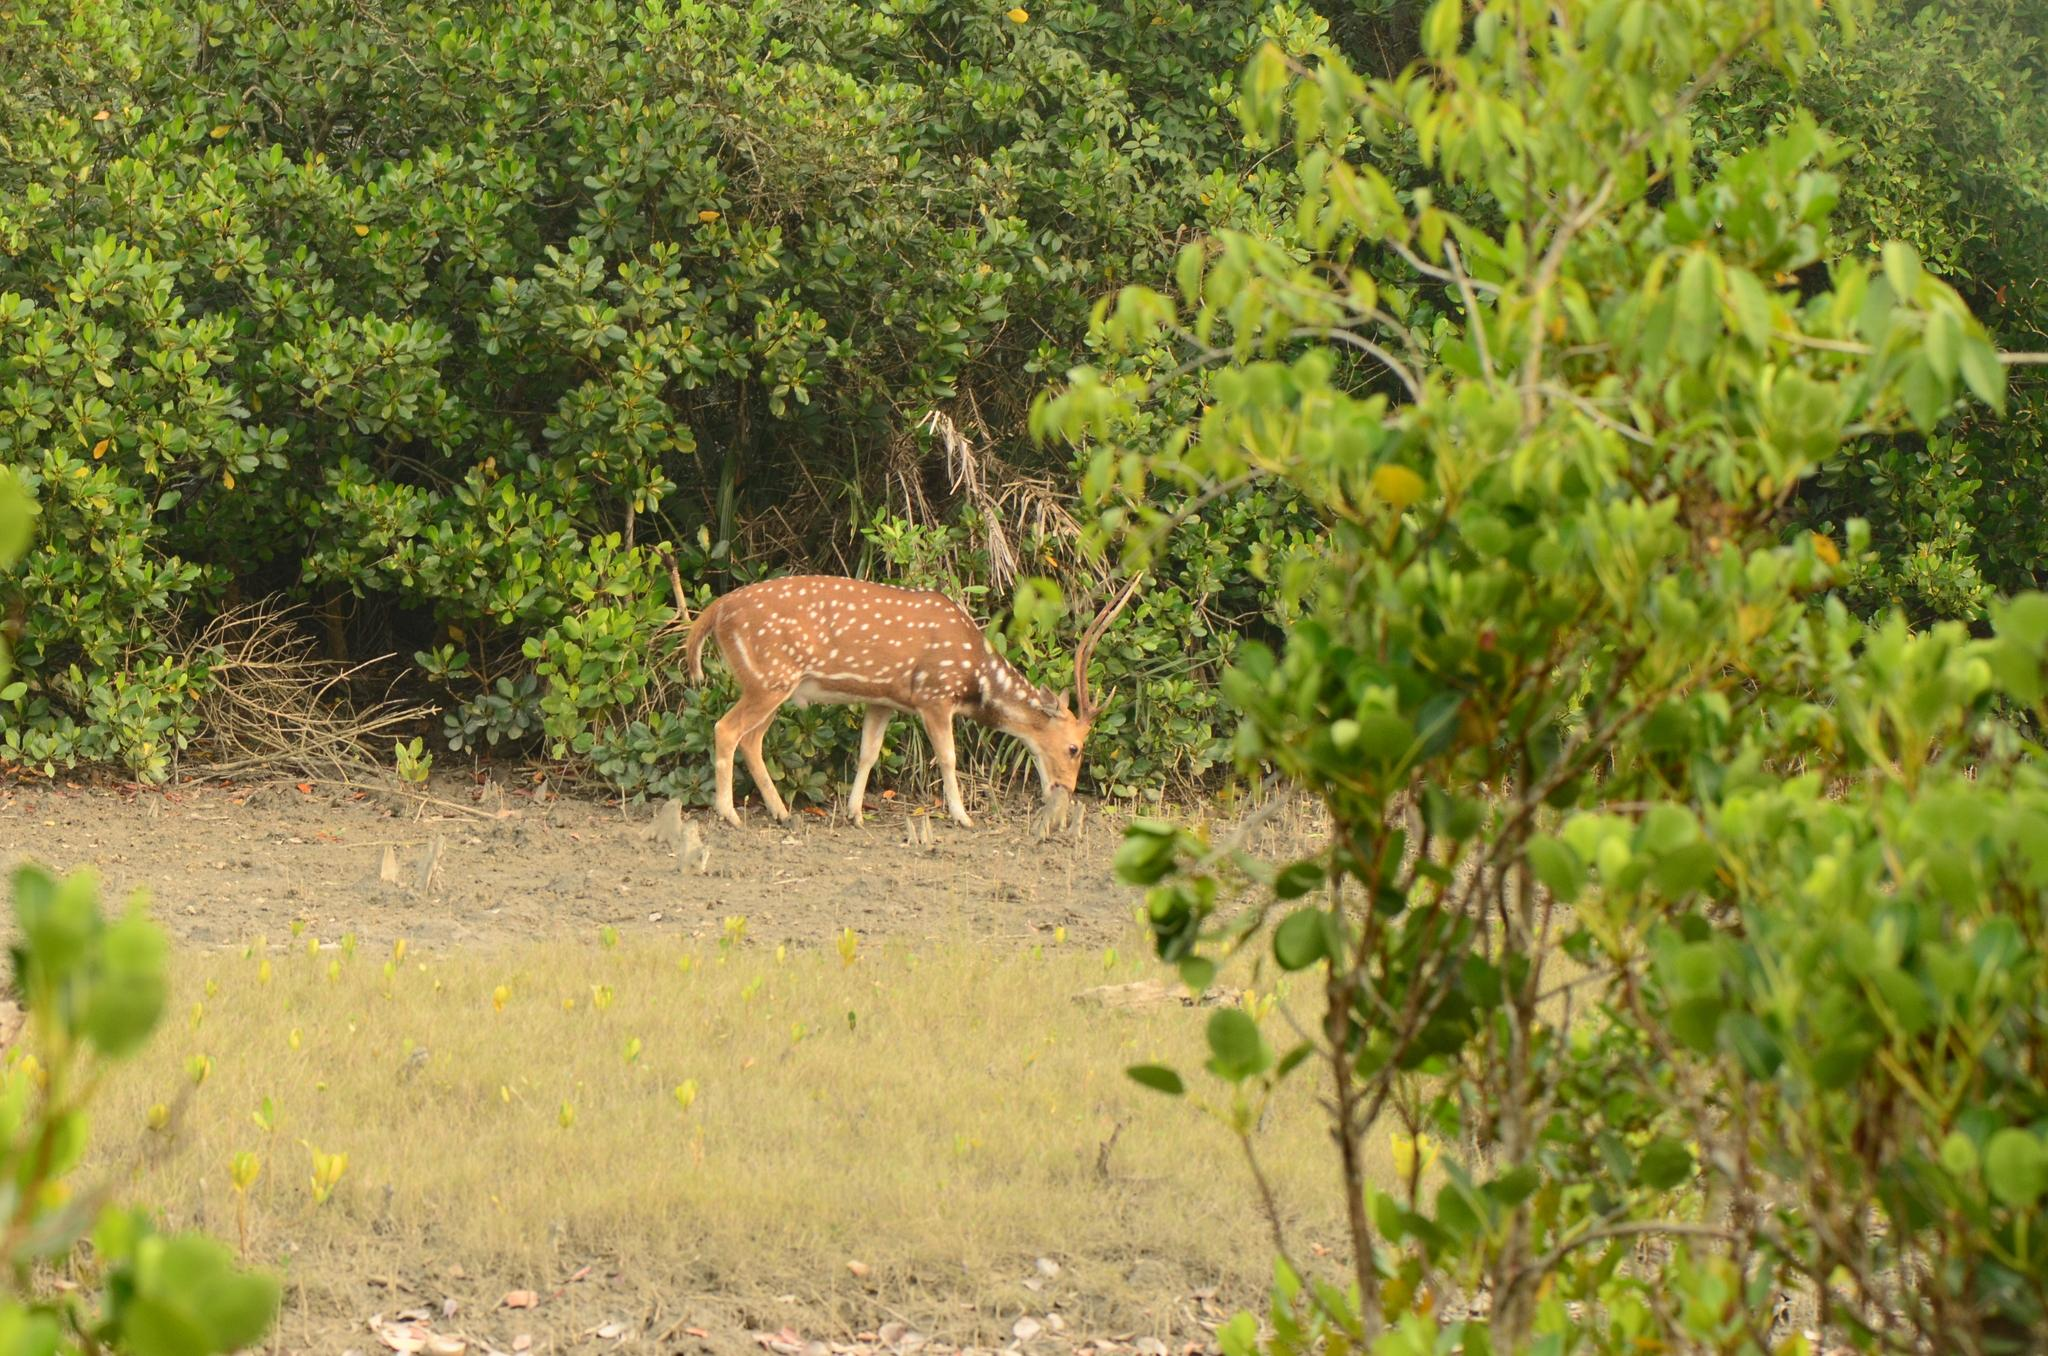Deer: (685, 575, 1139, 826)
